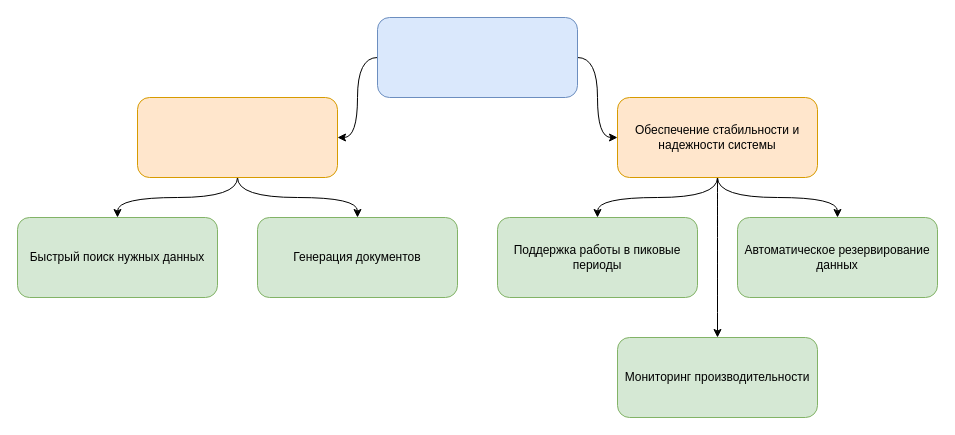
Image size: 955x435. Some labels were removed from this diagram. Each missing label, with the box of its shape:
Внедрение системы: (376, 16, 578, 98)
Повышение эффективности работы: (136, 96, 338, 178)
